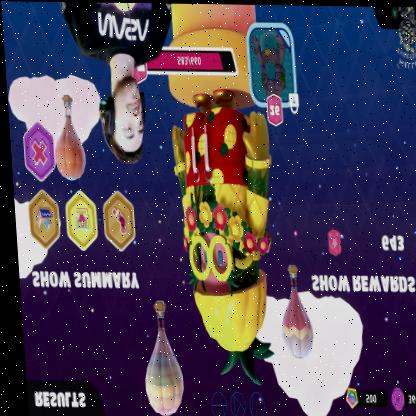streamer: (60, 1, 178, 164)
